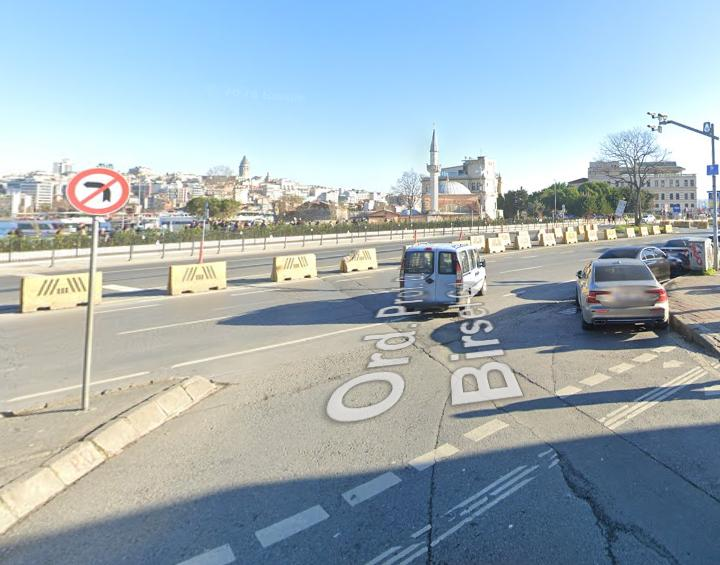leftturnsareforbidden: (66, 167, 129, 216)
